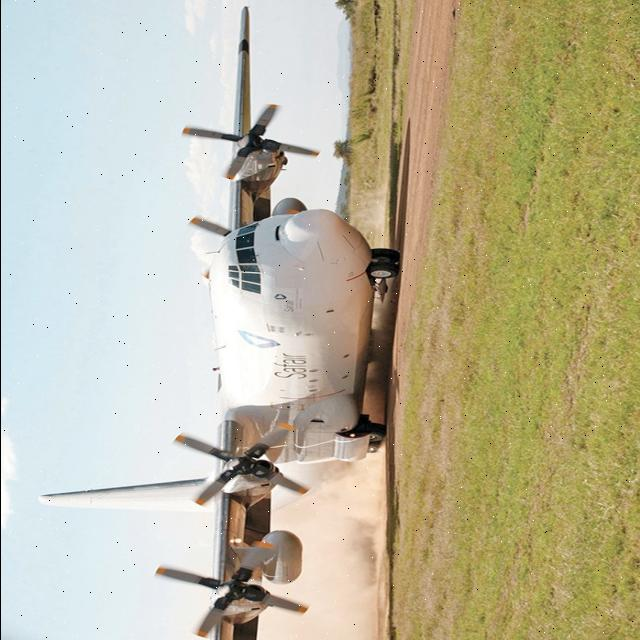C130: (13, 0, 475, 640)
